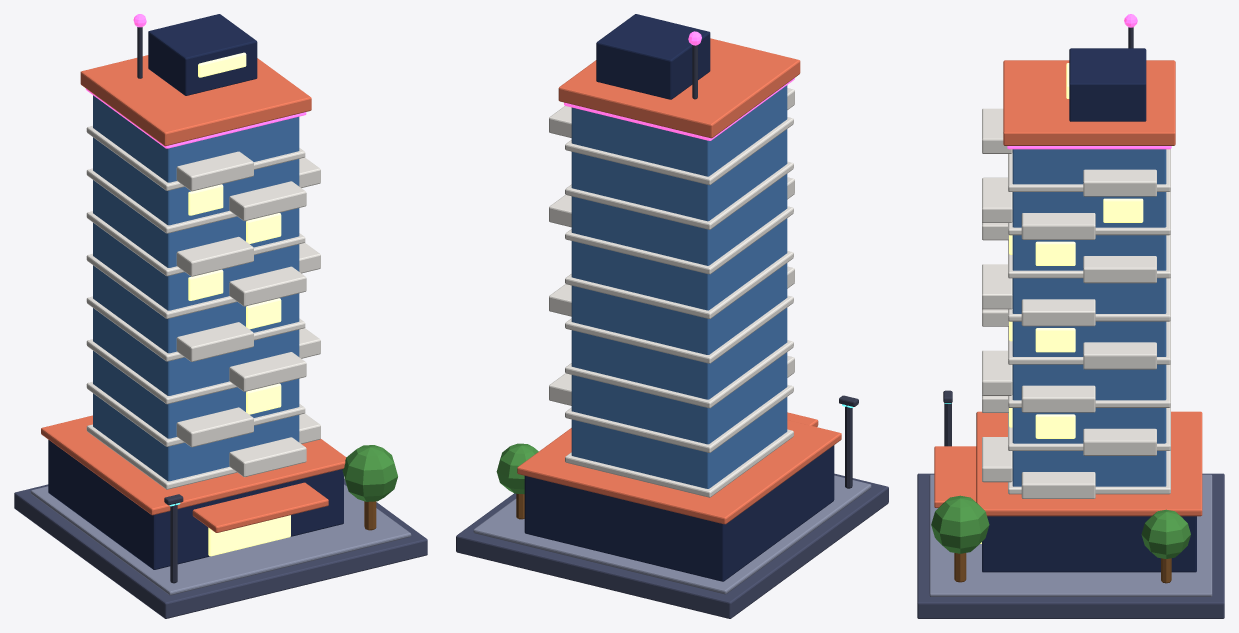
File: tower.glb
The picture shows the model from 3 angles, left to right: view 1: azimuth 30°, elevation 25°; view 2: azimuth 150°, elevation 25°; view 3: azimuth 270°, elevation 25°; orthographic projection. The views are drawn at different scales.
Visible parts, largest first — view 1: Tower; view 2: Tower; view 3: Tower.
Part boxes in pixels (x1,y1,x2,y2): Tower: (14,14,427,618); Tower: (456,14,888,618); Tower: (917,14,1224,618).
Bounding box in the file's own units: 2 × 3.7 × 2.
